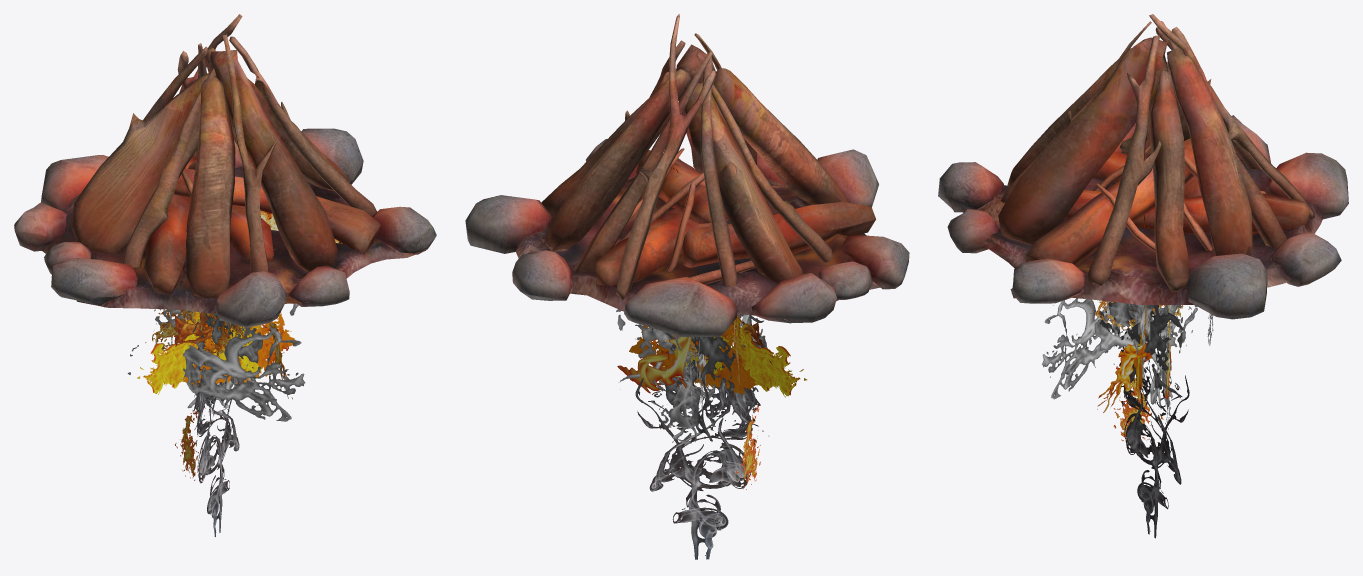
File: Campfire.glb
The picture shows the model from 3 angles, left to right: view 1: azimuth 30°, elevation 25°; view 2: azimuth 150°, elevation 25°; view 3: azimuth 270°, elevation 25°; orthographic projection. The views are drawn at different scales.
Visible parts, largest first — view 1: Campfire, fire_part_017, fire_part_02, fire_part_028, fire_part_05, fire_part_010, fire_part_07, fire_part_020; view 2: Campfire, fire_part_028, fire_part_02, fire_part_020, fire_part_08, fire_part_014, fire_part_019, fire_part_07; view 3: Campfire, fire_part_028, fire_part_017, fire_part_019, fire_part_016, fire_part_09, fire_part_020, fire_part_07, fire_part_023.
Boxes of the visible parts, <box> form: Campfire: <box>14,14,436,327</box>; fire_part_017: <box>183,325,305,421</box>; fire_part_02: <box>137,311,295,394</box>; fire_part_028: <box>190,319,239,536</box>; fire_part_05: <box>145,309,246,355</box>; fire_part_010: <box>174,313,239,346</box>; fire_part_07: <box>175,410,198,480</box>; fire_part_020: <box>127,303,298,408</box>; Campfire: <box>465,14,909,336</box>; fire_part_028: <box>635,315,768,559</box>; fire_part_02: <box>629,316,806,397</box>; fire_part_020: <box>665,332,755,441</box>; fire_part_08: <box>617,337,690,393</box>; fire_part_014: <box>650,368,715,444</box>; fire_part_019: <box>616,309,741,389</box>; fire_part_07: <box>735,405,760,489</box>; Campfire: <box>938,14,1348,319</box>; fire_part_028: <box>1114,309,1189,538</box>; fire_part_017: <box>1042,298,1122,399</box>; fire_part_019: <box>1099,302,1183,399</box>; fire_part_016: <box>1090,305,1197,378</box>; fire_part_09: <box>1097,343,1151,412</box>; fire_part_020: <box>1133,305,1192,409</box>; fire_part_07: <box>1113,366,1163,440</box>; fire_part_023: <box>1109,302,1154,320</box>.
Bounding box in the file's own units: 3.92 × 5.39 × 3.76.
2 materials, 2 textured.
